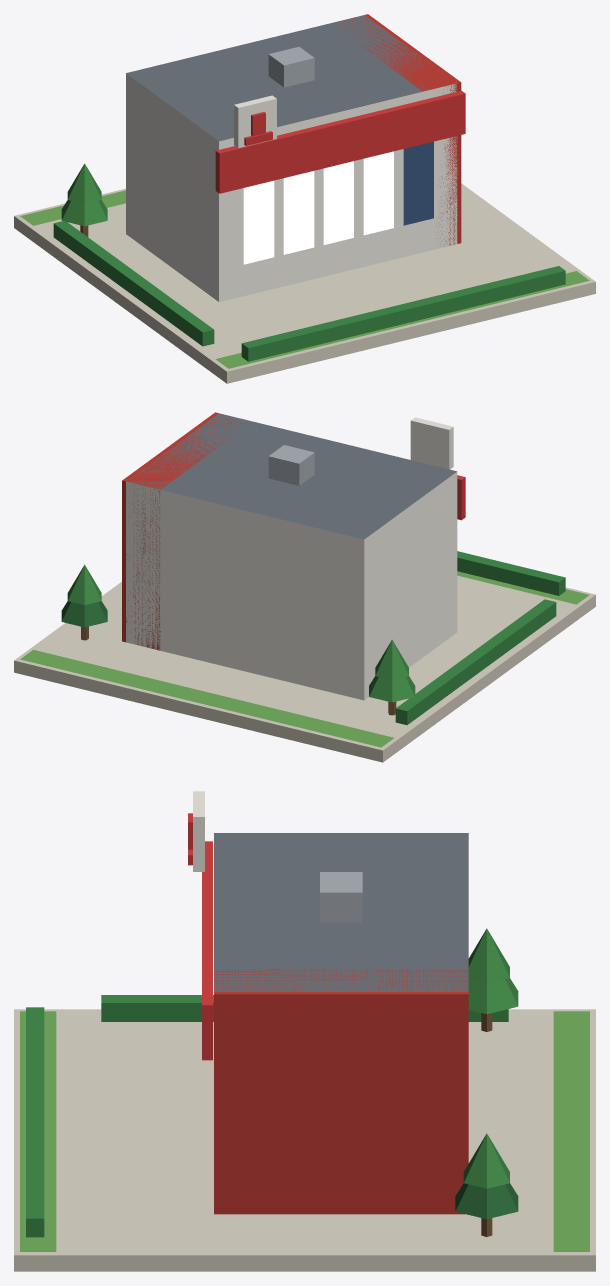
3 views of the same model, one above another, from view 1: azimuth 30°, elevation 25°; view 2: azimuth 150°, elevation 25°; view 3: azimuth 270°, elevation 25° (orthographic). The views are drawn at different scales.
Parts seen in each view (by area): view 1: b15; view 2: b15; view 3: b15.
Boxes of the visible parts, x1,y1,x2,y2 form: b15: (14, 14, 595, 383); b15: (14, 412, 595, 762); b15: (14, 791, 595, 1271).
Size of the model in its own units: 0.96 by 0.52 by 0.96.
